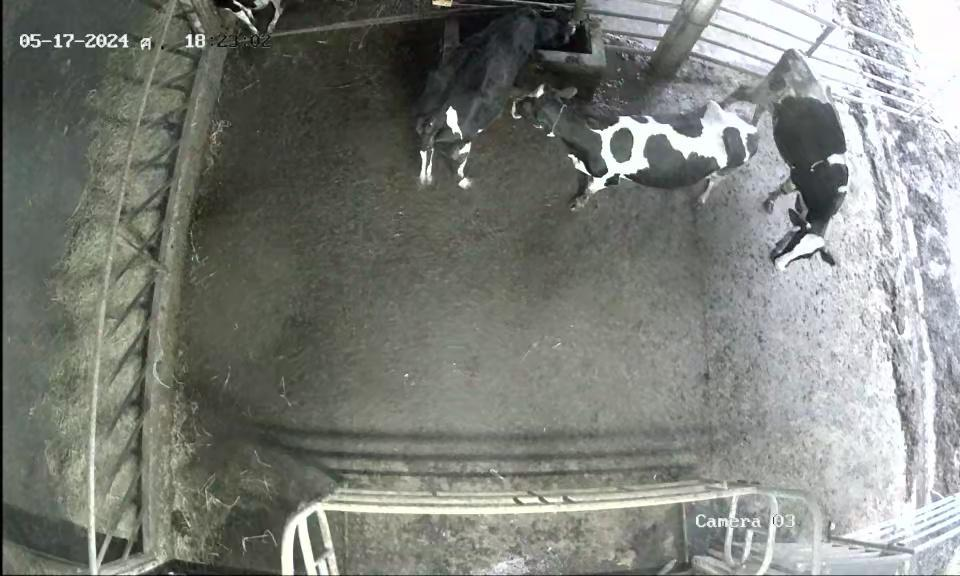drink: (512, 2, 588, 89)
stand: (510, 87, 762, 209), (754, 45, 860, 279)
